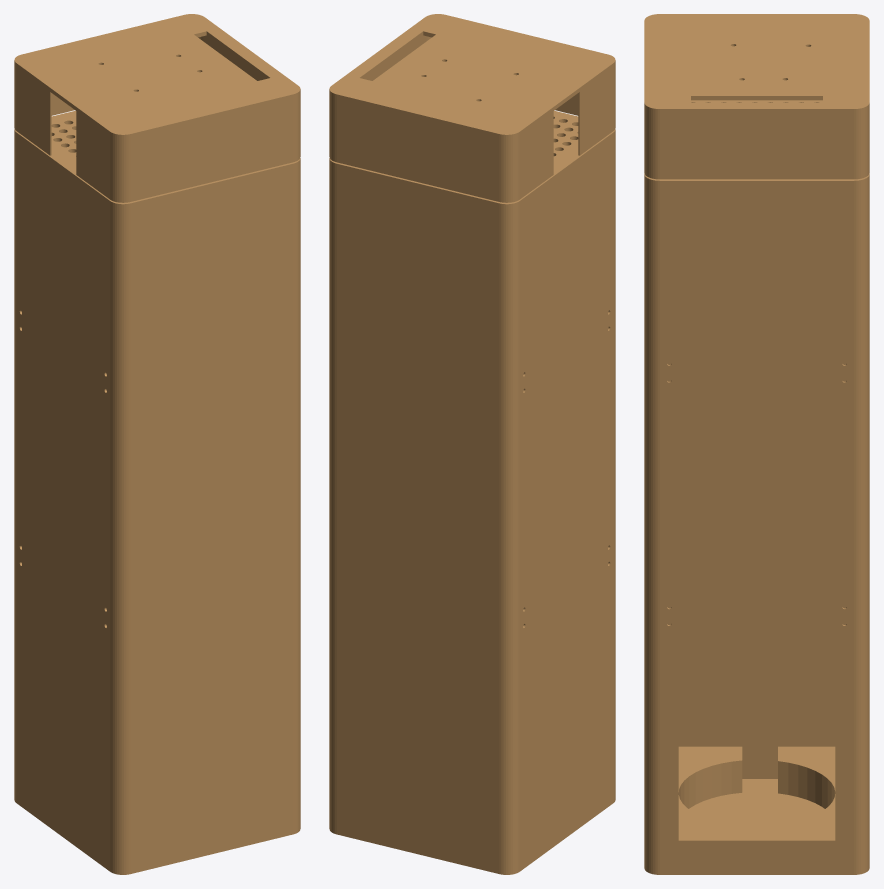
File: drinkMech_fin.glb
The picture shows the model from 3 angles, left to right: view 1: azimuth 30°, elevation 25°; view 2: azimuth 150°, elevation 25°; view 3: azimuth 270°, elevation 25°; orthographic projection. The views are drawn at different scales.
Size of the model in its own units: 0.145 by 0.5445 by 0.145.
